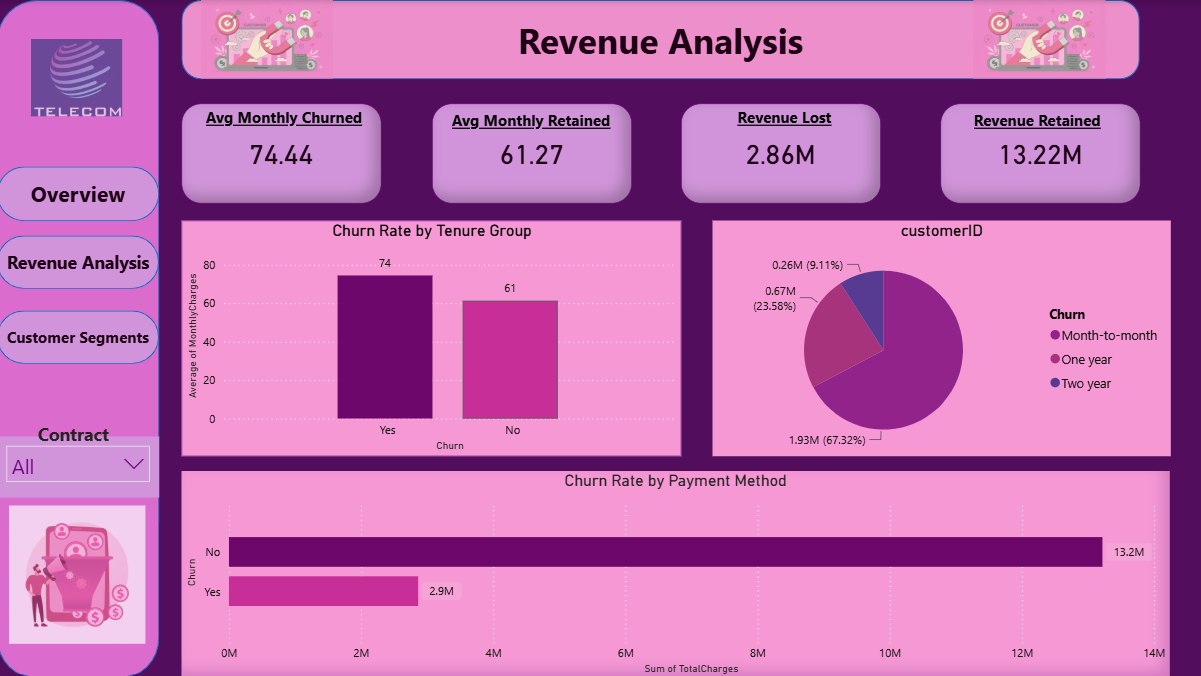

Layout of this report page (visuals, bound fields, positions):
{"tool":"powerbi","page":{"name":"Revenue Analysis","canvas":[1280,720],"ordinal":3},"visuals":[{"type":"shape","box":[196,0,1016,84],"z":0},{"type":"shape","box":[0,0,172,720],"z":1000},{"type":"image","box":[34,42,102,82],"z":2000},{"type":"shape","box":[0,176,172,58],"z":3000},{"type":"card","fields":{"Values":["Measures (2).Average Monthly Retained"]},"box":[462,110,212,106],"z":4000},{"type":"card","fields":{"Values":["Measures (2).Average Monthly Churned"]},"box":[196,110,212,106],"z":5000},{"type":"card","fields":{"Values":["Measures (2).Revenue Lost"]},"box":[726,110,212,106],"z":6000},{"type":"card","fields":{"Values":["Measures (2).Revenue Retained"]},"box":[1000,110,212,106],"z":7000},{"type":"pieChart","title":"customerID ","fields":{"Category":["telcom churn.Contract"],"Y":["Measures (2).Revenue Lost"]},"box":[758,234,486,250],"z":8000},{"type":"clusteredBarChart","title":"Churn Rate by Payment Method","fields":{"Category":["telcom churn.Churn"],"Y":["Sum(telcom churn.TotalCharges)"]},"box":[196,500,1048,220],"z":9000},{"type":"columnChart","title":"Churn Rate by Tenure Group","fields":{"Category":["telcom churn.Churn"],"Y":["Avg(telcom churn.MonthlyCharges)"]},"box":[196,234,530,250],"z":10000},{"type":"slicer","fields":{"Values":["telcom churn.Contract"]},"box":[0,463,171.8,64.9],"z":11000},{"type":"textbox","box":[37.7,442,96.4,41.9],"z":12000},{"type":"image","box":[216.7,0,139.7,83],"z":13000},{"type":"image","box":[1034.9,0,139.7,83],"z":14000},{"type":"textbox","box":[215.8,108.9,211.6,41.9],"z":15000},{"type":"textbox","box":[477.6,111,211.6,50.3],"z":16000},{"type":"textbox","box":[745.8,108.9,178.1,50.3],"z":17000},{"type":"textbox","box":[1030.7,111,150.8,48.2],"z":18000},{"type":"shape","box":[0,249.3,171.8,56.6],"z":19000},{"type":"shape","box":[0,328.9,171.8,56.6],"z":20000},{"type":"image","box":[12.6,536.3,144.5,146.6],"z":21000}]}

Visuals, with their boxes in screenshot pixels (x1, y1, x2, y2), scaled from the page's 1280x720 canvas onto the 1201x676 screenshot:
shape: (184,0,1137,79)
shape: (0,0,161,675)
image: (32,39,128,116)
shape: (0,165,161,220)
card - Measures (2).Average Monthly Retained: (433,103,632,203)
card - Measures (2).Average Monthly Churned: (184,103,383,203)
card - Measures (2).Revenue Lost: (681,103,880,203)
card - Measures (2).Revenue Retained: (938,103,1137,203)
"customerID " pieChart: (711,220,1167,454)
"Churn Rate by Payment Method" clusteredBarChart: (184,469,1167,675)
"Churn Rate by Tenure Group" columnChart: (184,220,681,454)
slicer - telcom churn.Contract: (0,435,161,496)
textbox: (35,415,126,454)
image: (203,0,334,78)
image: (971,0,1102,78)
textbox: (202,102,401,142)
textbox: (448,104,647,151)
textbox: (700,102,867,149)
textbox: (967,104,1109,149)
shape: (0,234,161,287)
shape: (0,309,161,362)
image: (12,504,147,641)
